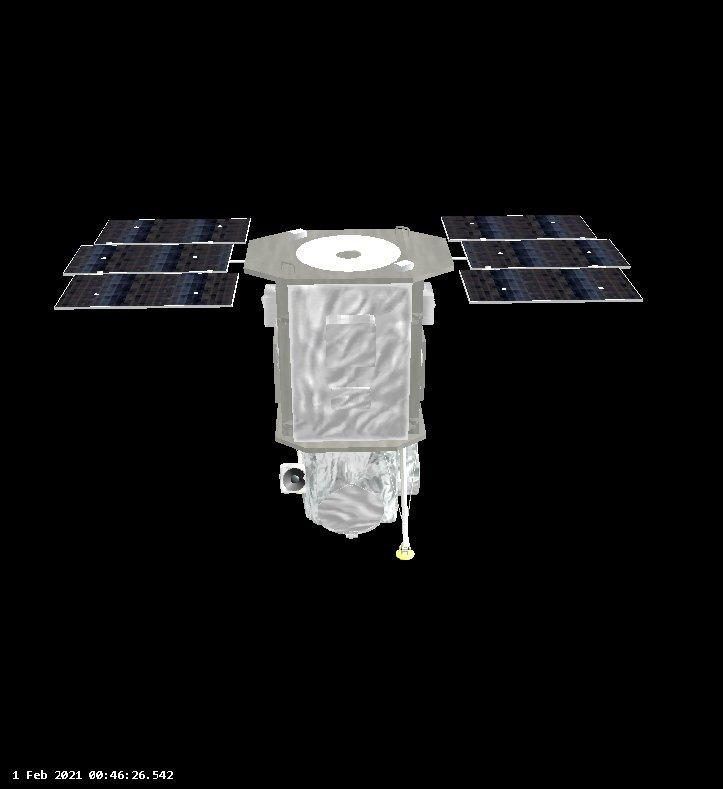antenna: (389, 441, 419, 563)
body: (244, 228, 456, 542)
solar: (54, 272, 238, 309), (451, 269, 649, 301), (460, 237, 635, 270), (62, 242, 235, 273), (92, 216, 257, 243), (438, 214, 598, 239)
